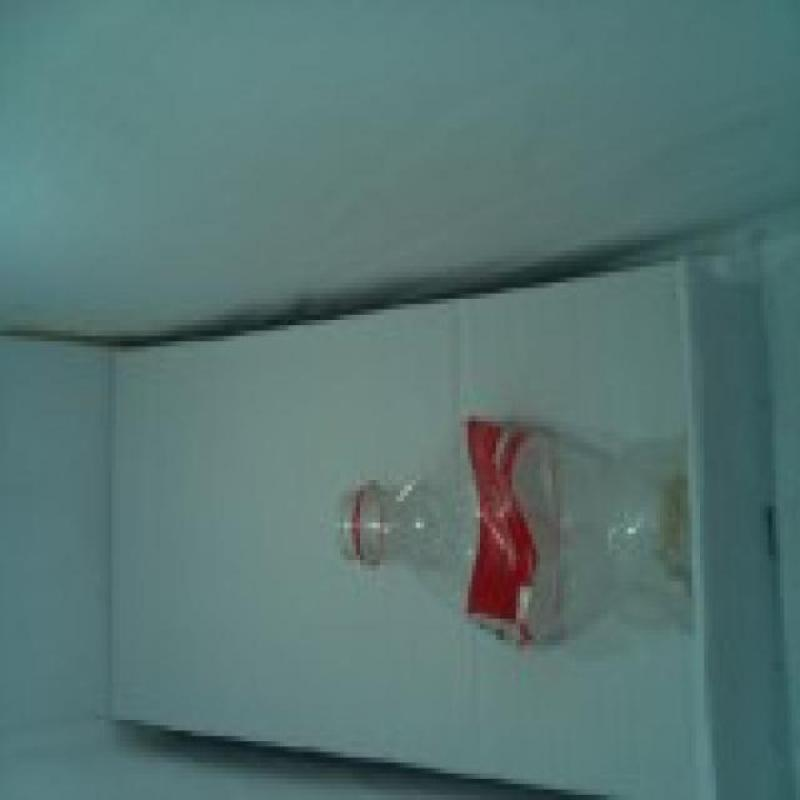botella: (337, 415, 691, 653)
